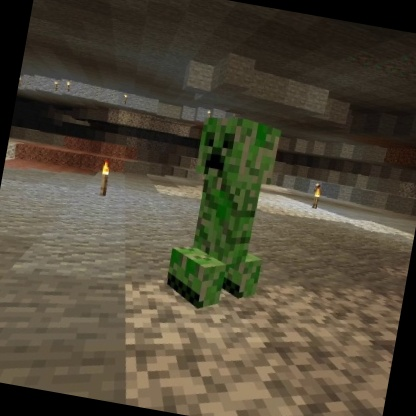creeper: (159, 106, 289, 322)
